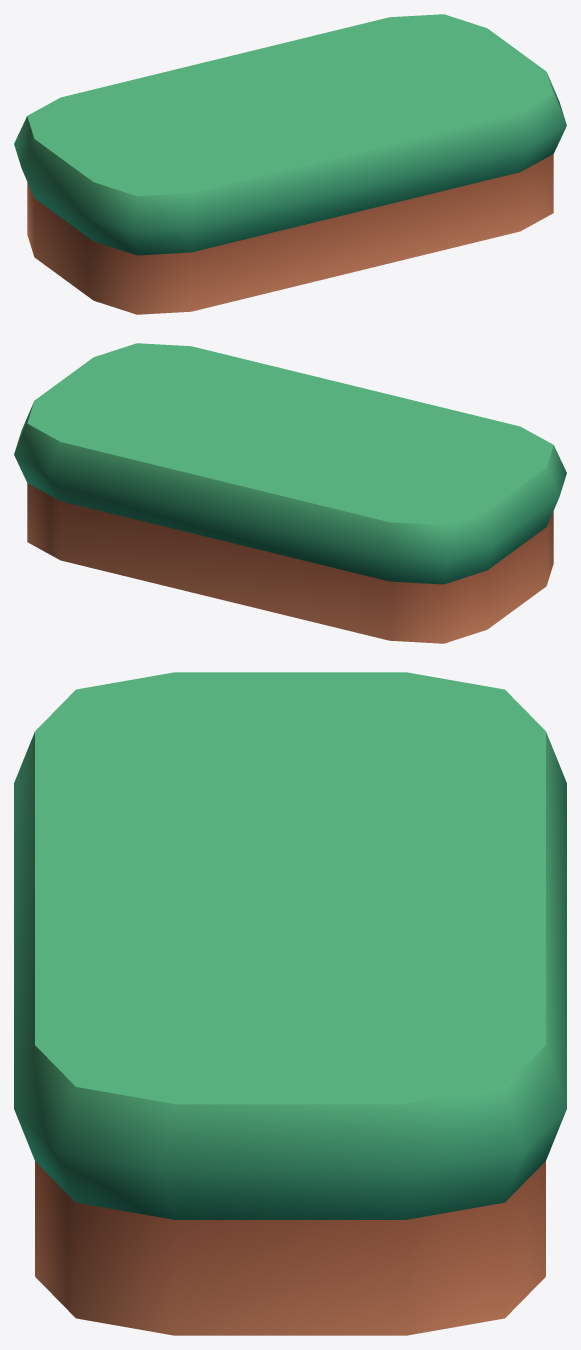
The model's file is block-grass-low-long.glb.
3 renders of one model, top to bottom at view 1: azimuth 30°, elevation 25°; view 2: azimuth 150°, elevation 25°; view 3: azimuth 270°, elevation 25°, orthographic. The views are drawn at different scales.
Visible parts, largest first — view 1: block-grass-low-long; view 2: block-grass-low-long; view 3: block-grass-low-long.
Part boxes in pixels (left/top/right/bottom): block-grass-low-long: left=14, top=14, right=566, bottom=314; block-grass-low-long: left=14, top=343, right=566, bottom=643; block-grass-low-long: left=14, top=672, right=566, bottom=1335.
Size of the model in its own units: 2.08 by 0.5 by 1.08.
1 material, 1 textured.
